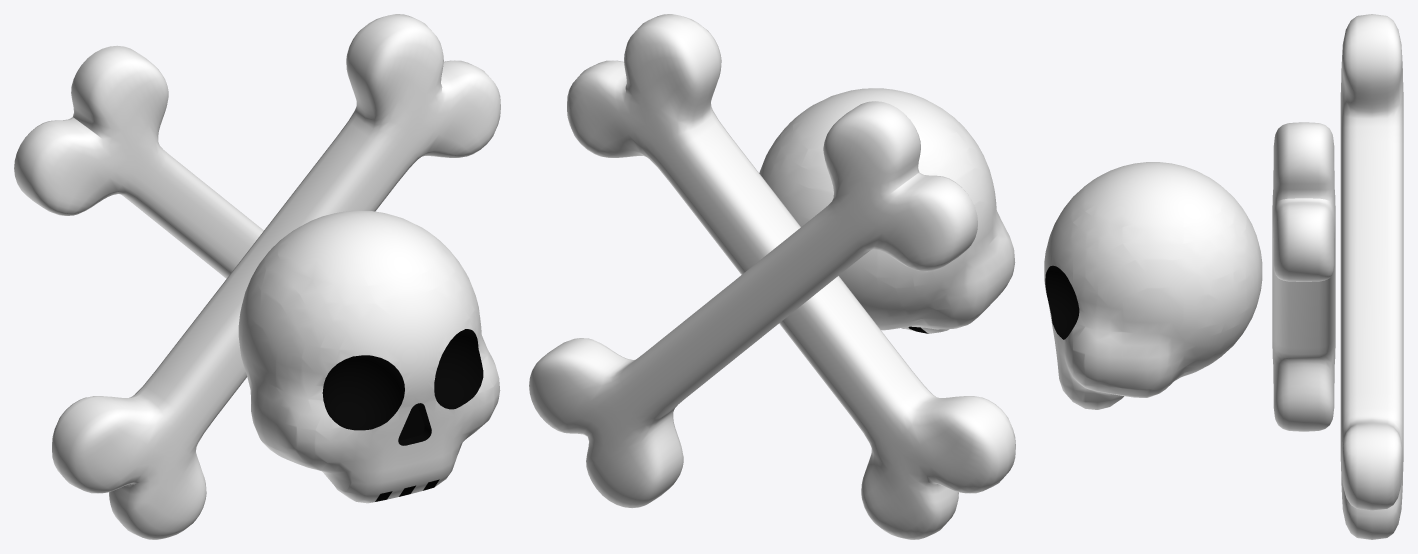
The model's file is skull_and_crossbones.glb.
3 views of the same model, side by side, from view 1: azimuth 30°, elevation 25°; view 2: azimuth 150°, elevation 25°; view 3: azimuth 270°, elevation 25° (orthographic). The views are drawn at different scales.
Parts seen in each view (by area): view 1: Skull and Crossbones; view 2: Skull and Crossbones; view 3: Skull and Crossbones.
Boxes of the visible parts, left/top/right/bottom form: Skull and Crossbones: left=14, top=14, right=500, bottom=539; Skull and Crossbones: left=529, top=14, right=1015, bottom=539; Skull and Crossbones: left=1044, top=14, right=1403, bottom=539.
Bounding box in the file's own units: 2.38 × 2.38 × 1.89.
1 material, 1 textured.
